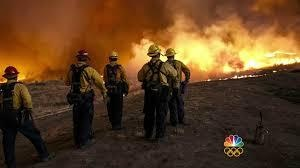fire: (178, 43, 298, 76)
